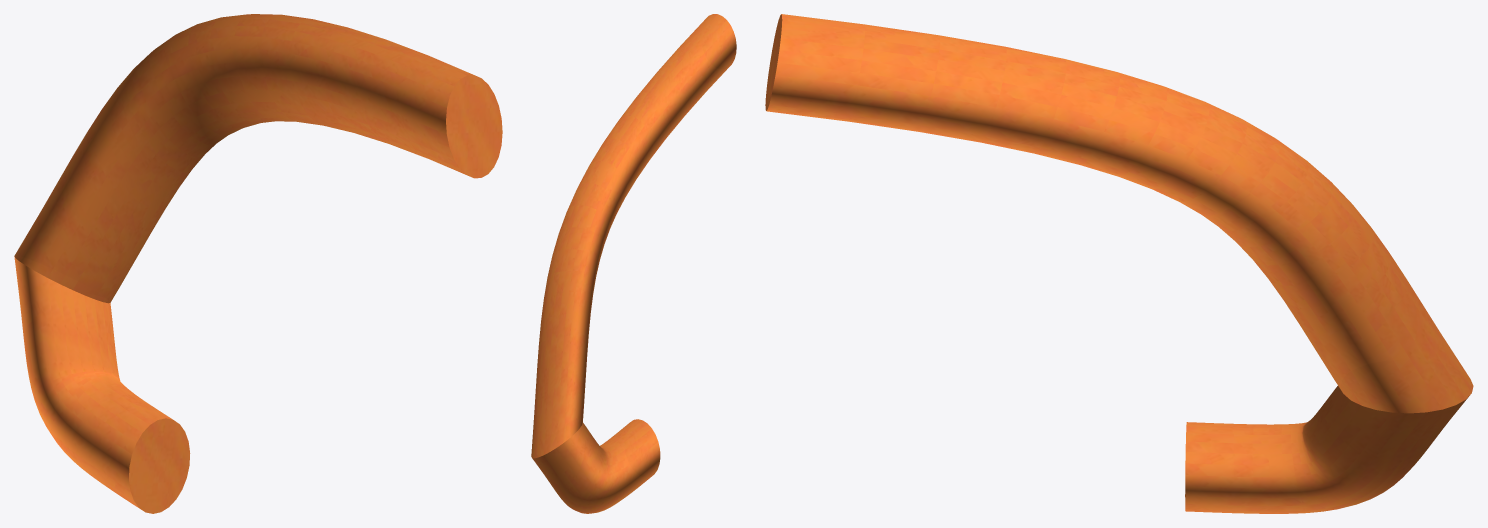
The model's file is original-11.obj.
3 views of the same model, side by side, from view 1: azimuth 30°, elevation 25°; view 2: azimuth 150°, elevation 25°; view 3: azimuth 270°, elevation 25° (orthographic). The views are drawn at different scales.
Parts seen in each view (by area): view 1: Group12/mesh6/mesh6-geometry#mesh6-geometry; view 2: Group12/mesh6/mesh6-geometry#mesh6-geometry; view 3: Group12/mesh6/mesh6-geometry#mesh6-geometry.
Boxes of the visible parts, x1,y1,x2,y2 form: Group12/mesh6/mesh6-geometry#mesh6-geometry: [14, 14, 502, 513]; Group12/mesh6/mesh6-geometry#mesh6-geometry: [531, 14, 736, 513]; Group12/mesh6/mesh6-geometry#mesh6-geometry: [765, 14, 1473, 513].
Size of the model in its own units: 0.0482 by 0.172 by 0.2046.
1 material, 1 textured.
